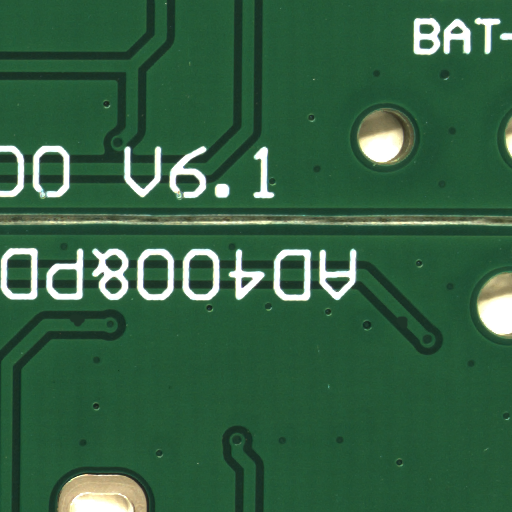Mouse_bite: (78, 322, 94, 331), (403, 322, 414, 334)
